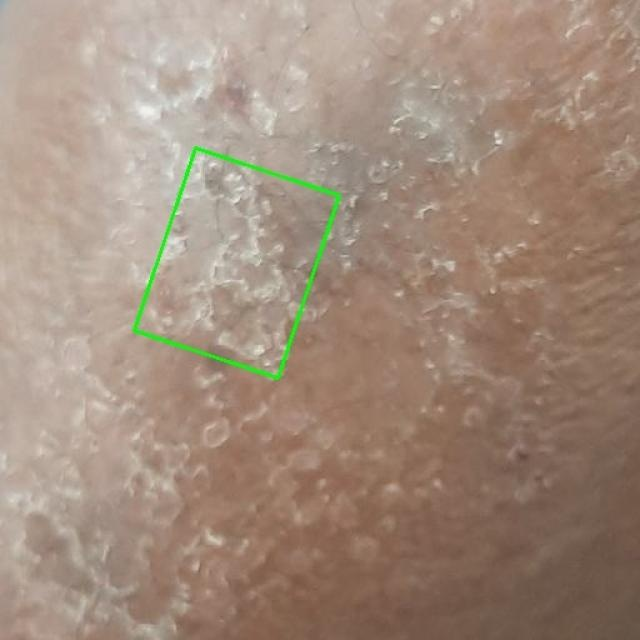Eczema: (134, 148, 339, 378)
